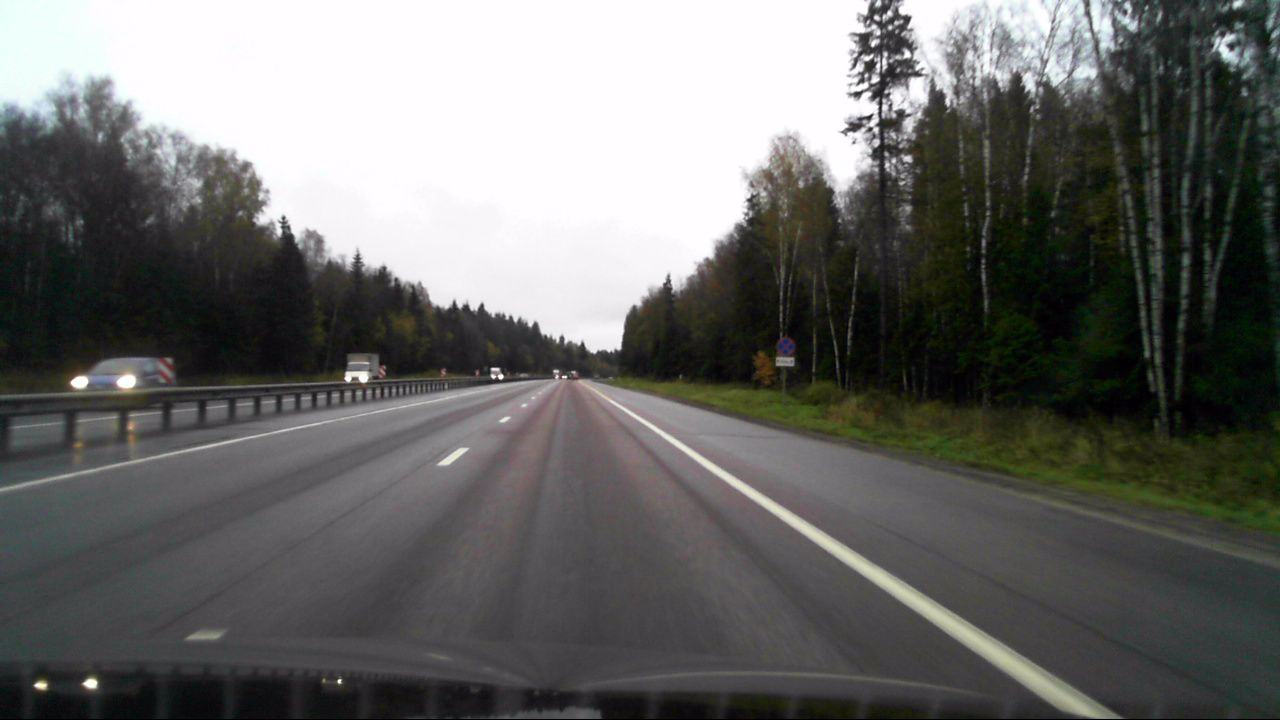No Parking: (776, 337, 795, 356)
